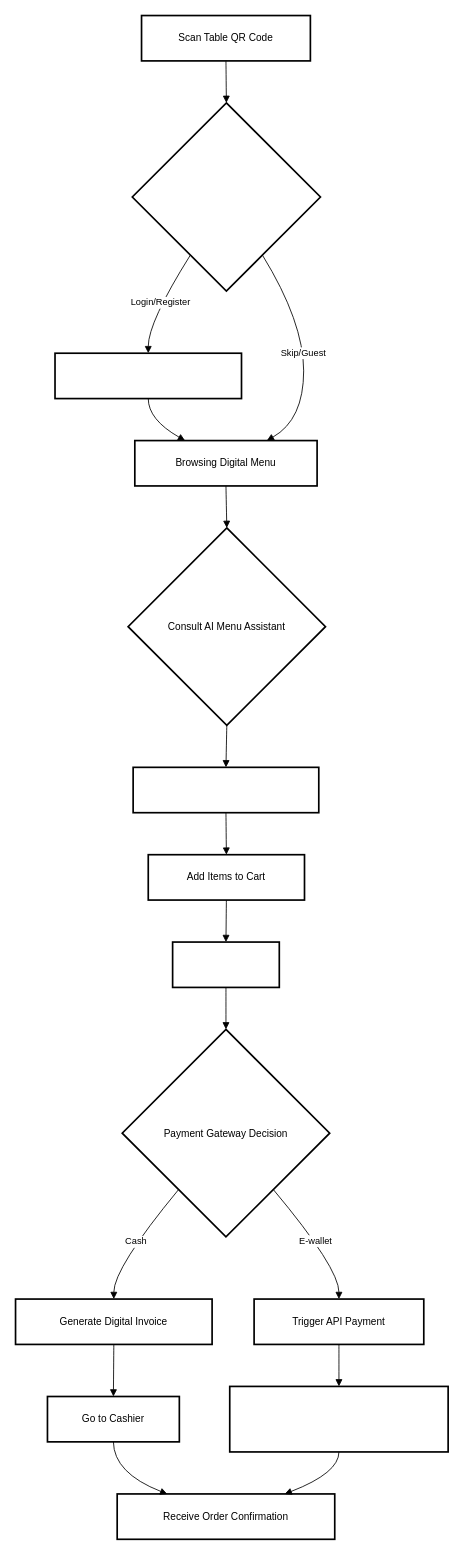
The diagram is 463 pixels wide and 1554 high, and some of its shapes have lost their labels. Each missing label, with the centre of its shape:
Authentication Decision: the point at 226,196
Checkout: the point at 225,964
Get Recommendations: the point at 225,789
Login/Register Process: the point at 148,375
Wait for Success Notification: the point at 338,1418
